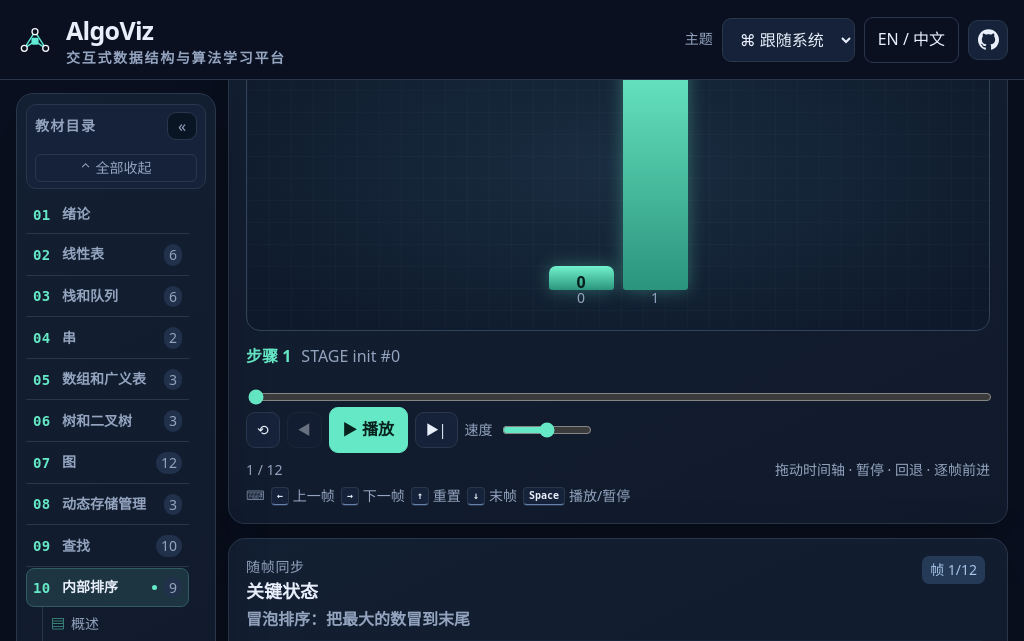
Scenario: Stage 3B — teaching steps follow the single timeline cursor › lesson → timeline: clicking a step seeks the real frame and pauses playback
The image size is (1024, 641).
(page scrolled)
Check: the text with test id "progress" reads "1 / 12", box [246, 460, 282, 479]
Note: Playing first, so the click must also stop the timer.
Click the button with test id "play-btn": (368, 430) [329, 407, 408, 453]
(page scrolled)
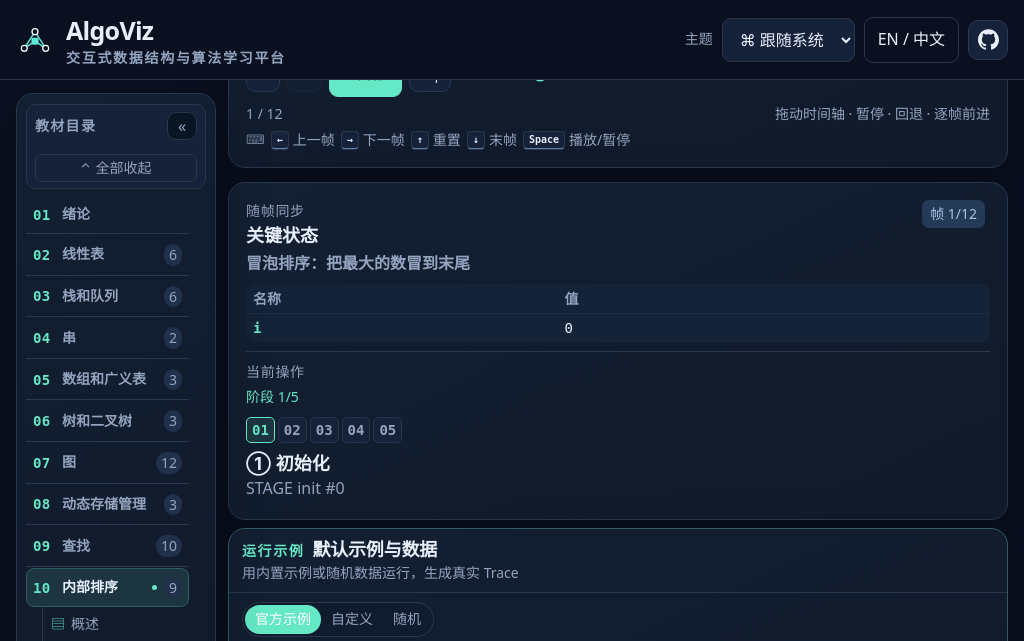
Check: the button with test id "play-btn" shows "暂停", box [329, 51, 402, 97]
Click the button with test id "lesson-step-pass": (356, 430) [342, 417, 370, 443]
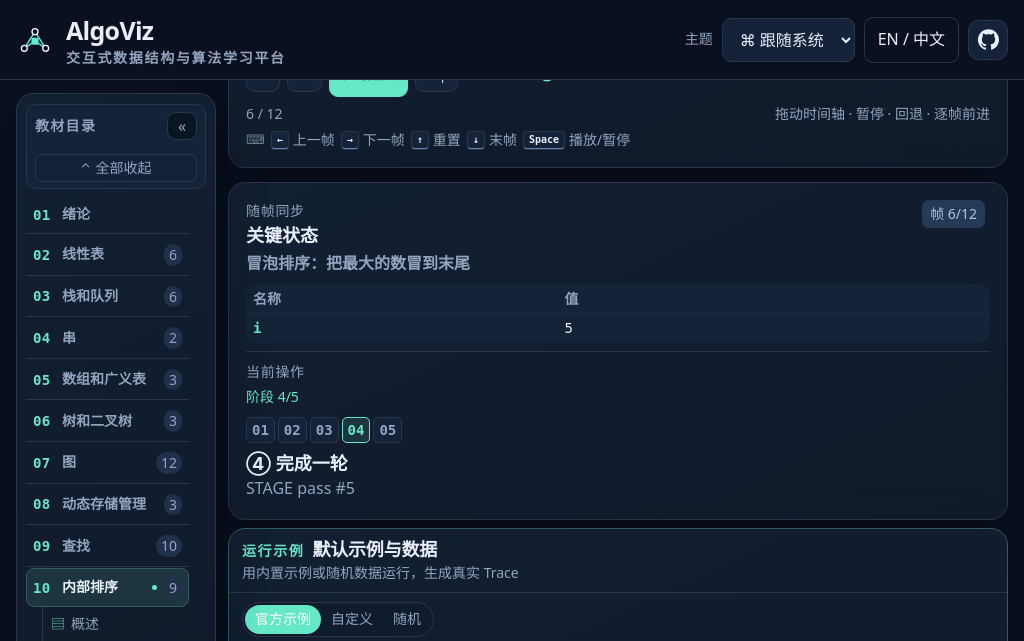
Check: the table with test id "variables-watch" shows "i", box [253, 320, 261, 336]
Check: the text with test id "progress" reads "6 / 12", box [246, 104, 282, 123]
Check: the button with test id "play-btn" shows "播放", box [329, 51, 408, 97]
